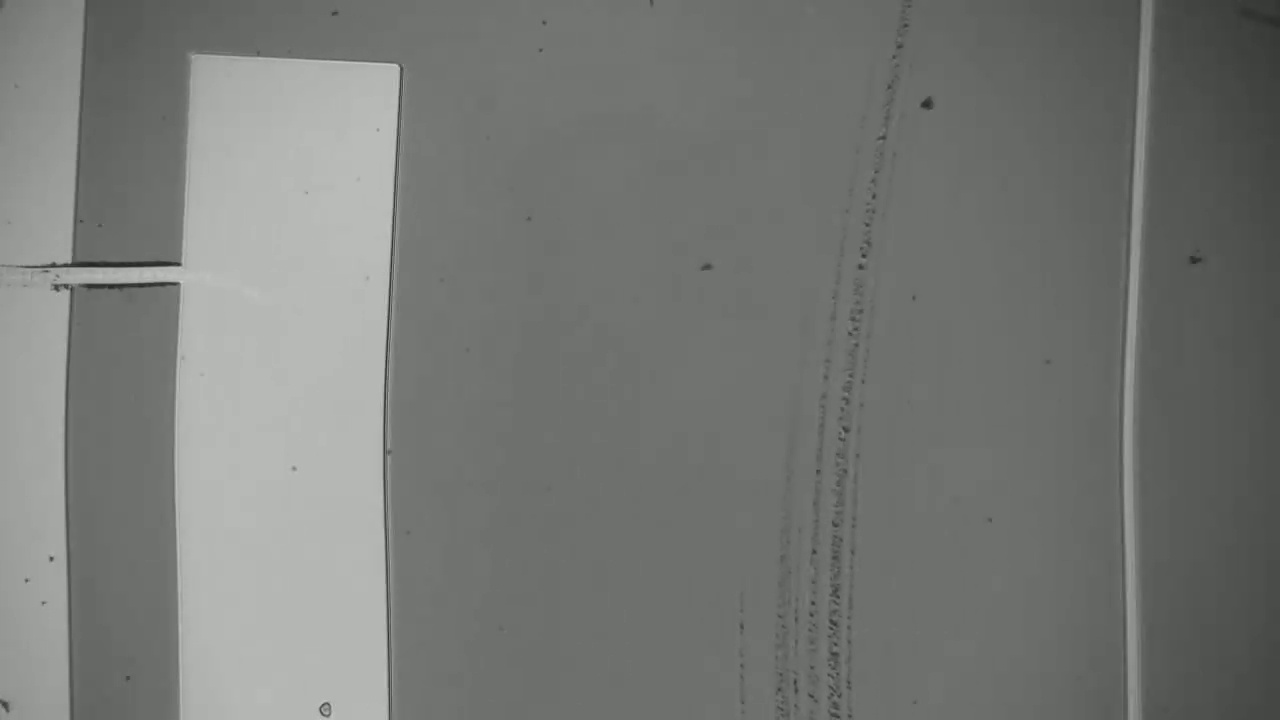Short_circuit: (38, 230, 200, 316)
scratch: (715, 12, 908, 708)
